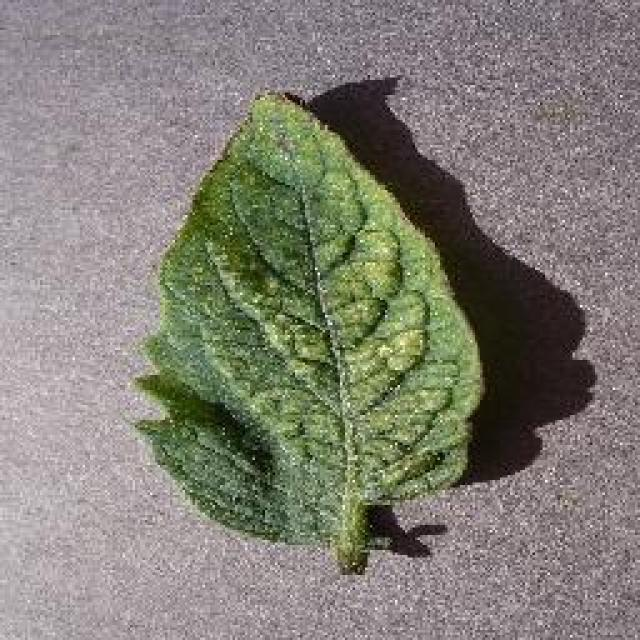Tom_Spider_mites Two-spotted_spider_mite: (189, 226, 430, 465)
